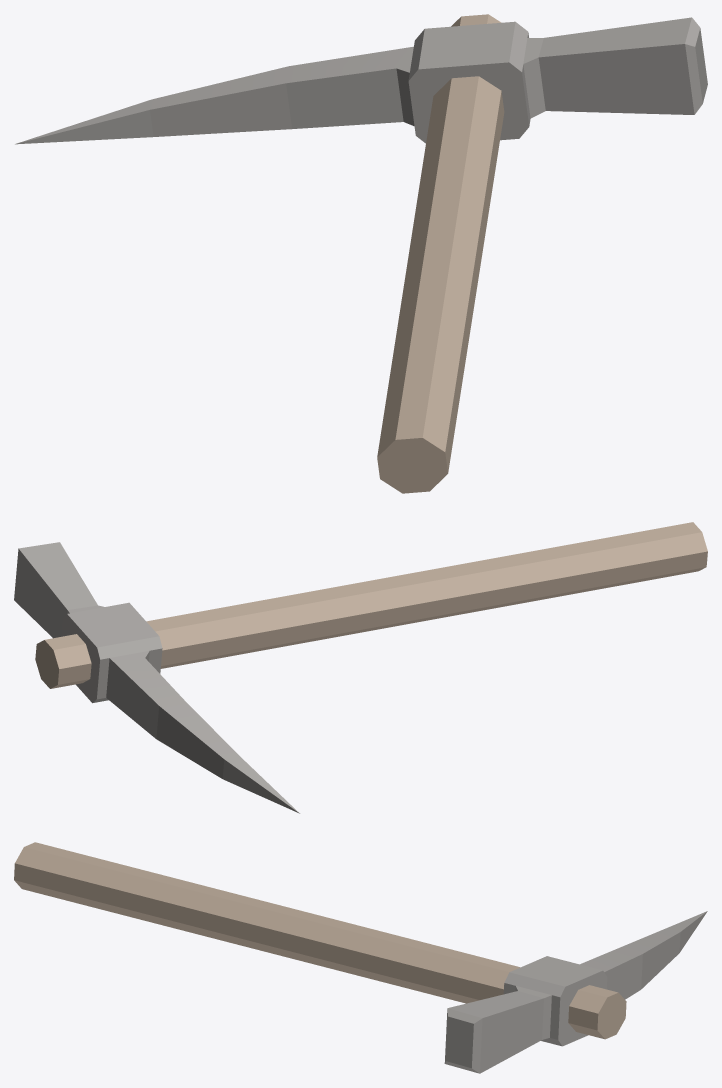
Rendered from Cave_Prop_Pick_Small.glb.
3 views of the same model, one above another, from view 1: azimuth 30°, elevation 25°; view 2: azimuth 150°, elevation 25°; view 3: azimuth 270°, elevation 25° (orthographic). The views are drawn at different scales.
Parts seen in each view (by area): view 1: Cave_Prop_Pick_Small; view 2: Cave_Prop_Pick_Small; view 3: Cave_Prop_Pick_Small.
Part boxes in pixels (box(x1,y1,x2,y2)): Cave_Prop_Pick_Small: box(15, 14, 707, 493); Cave_Prop_Pick_Small: box(14, 522, 707, 813); Cave_Prop_Pick_Small: box(14, 842, 707, 1073).
Bounding box in the file's own units: 0.343 × 0.0584 × 0.4497.
